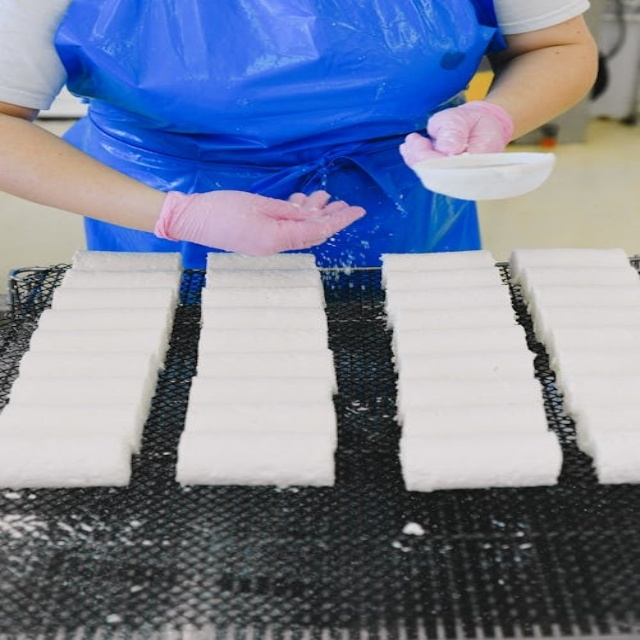Guantes: (153, 188, 368, 256), (402, 100, 514, 161)
